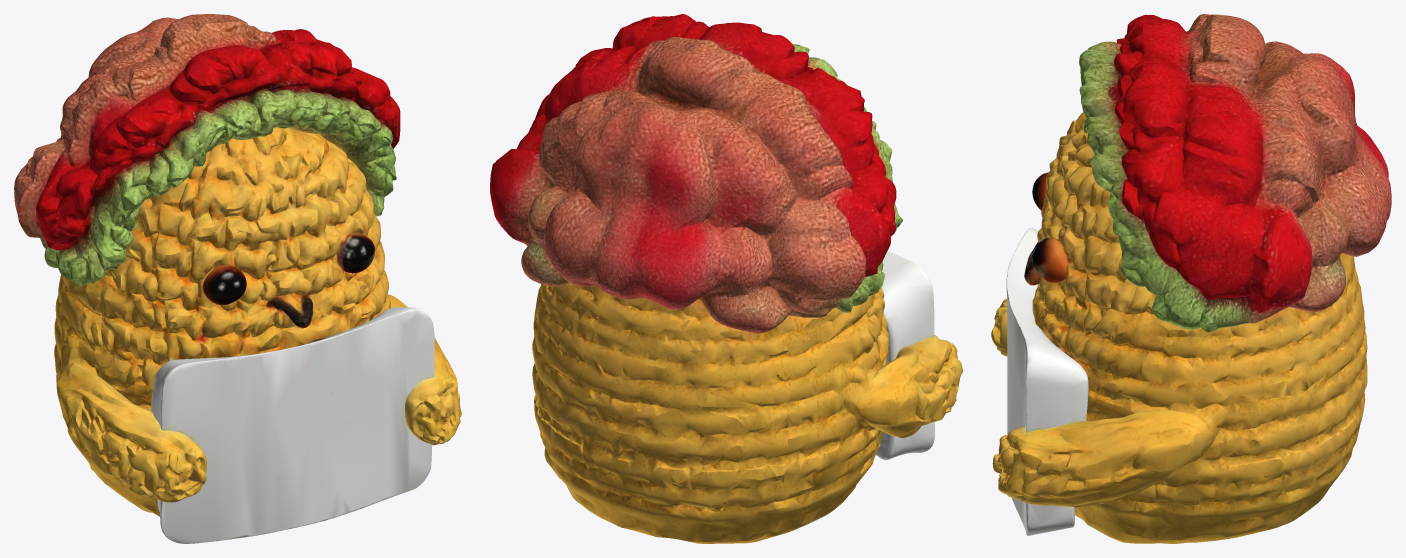
File: taco.glb
3 renders of one model, left to right at view 1: azimuth 30°, elevation 25°; view 2: azimuth 150°, elevation 25°; view 3: azimuth 270°, elevation 25°, orthographic. The views are drawn at different scales.
Parts seen in each view (by area): view 1: body, trim (×2), card, handL, handR, eyeL, eyeR; view 2: trim, body, handL, card; view 3: trim, body, handR, card, eyeR, handL.
Part boxes in pixels (bbox=[...]): body: bbox=[54, 127, 390, 516]; trim (×2): bbox=[14, 14, 400, 286]; card: bbox=[151, 307, 434, 543]; handL: bbox=[56, 362, 206, 502]; handR: bbox=[388, 294, 461, 445]; eyeL: bbox=[202, 264, 246, 305]; eyeR: bbox=[337, 233, 375, 273]; trim: bbox=[490, 14, 902, 333]; body: bbox=[532, 283, 888, 543]; handL: bbox=[859, 334, 962, 437]; card: bbox=[876, 251, 934, 460]; trim: bbox=[1079, 14, 1391, 332]; body: bbox=[1024, 112, 1367, 543]; handR: bbox=[992, 410, 1213, 507]; card: bbox=[1006, 228, 1088, 535]; eyeR: bbox=[1032, 238, 1068, 282]; handL: bbox=[991, 298, 1007, 356].
Bounding box in the file's own units: 1.5 × 1.9 × 1.4.
8 materials, 8 textured.
